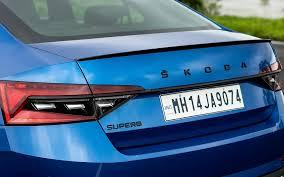skoda: (151, 61, 247, 78)
